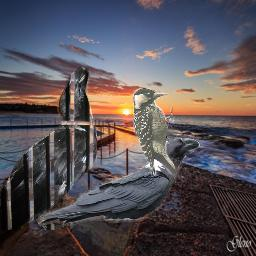Crow: (1, 67, 97, 230), (38, 138, 200, 226)
Woodpecker: (133, 88, 179, 178)
